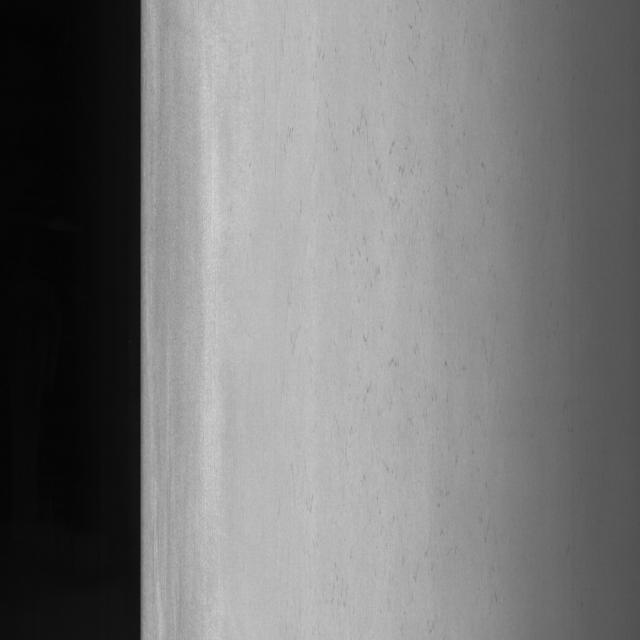inclusion: (333, 74, 475, 570)
